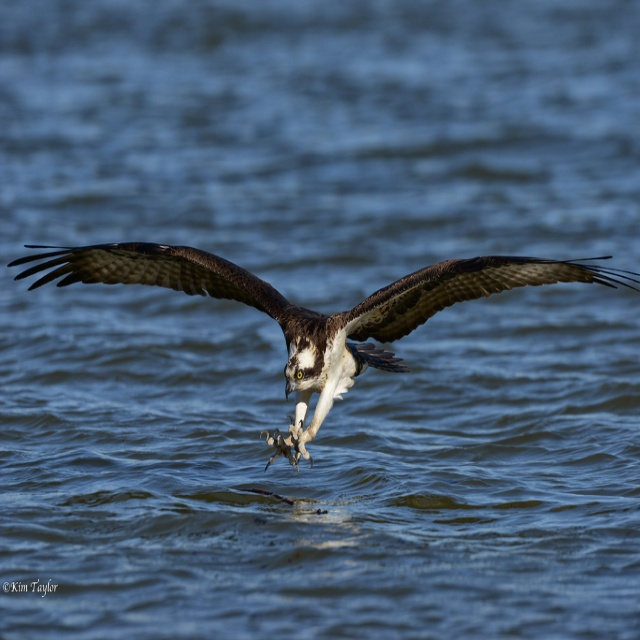Eagle: (6, 240, 639, 471)
